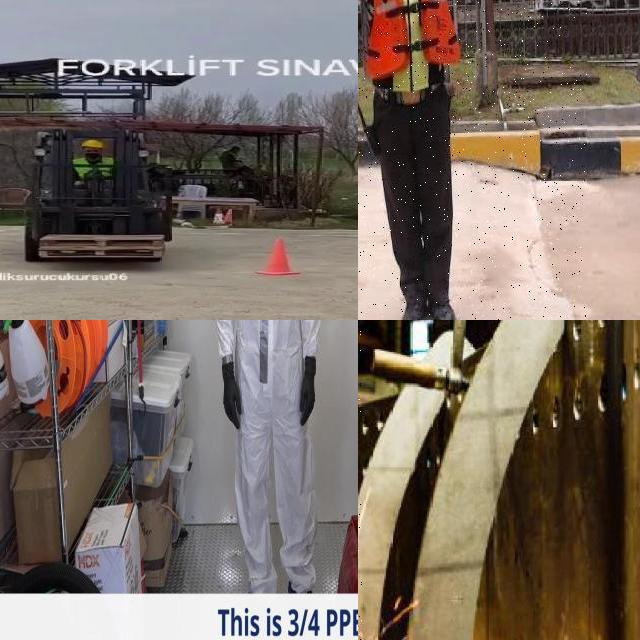BOOTS: (400, 291, 429, 320), (427, 295, 458, 320)
Glove: (220, 363, 243, 433), (300, 356, 318, 426)
VEST: (363, 0, 462, 92)
